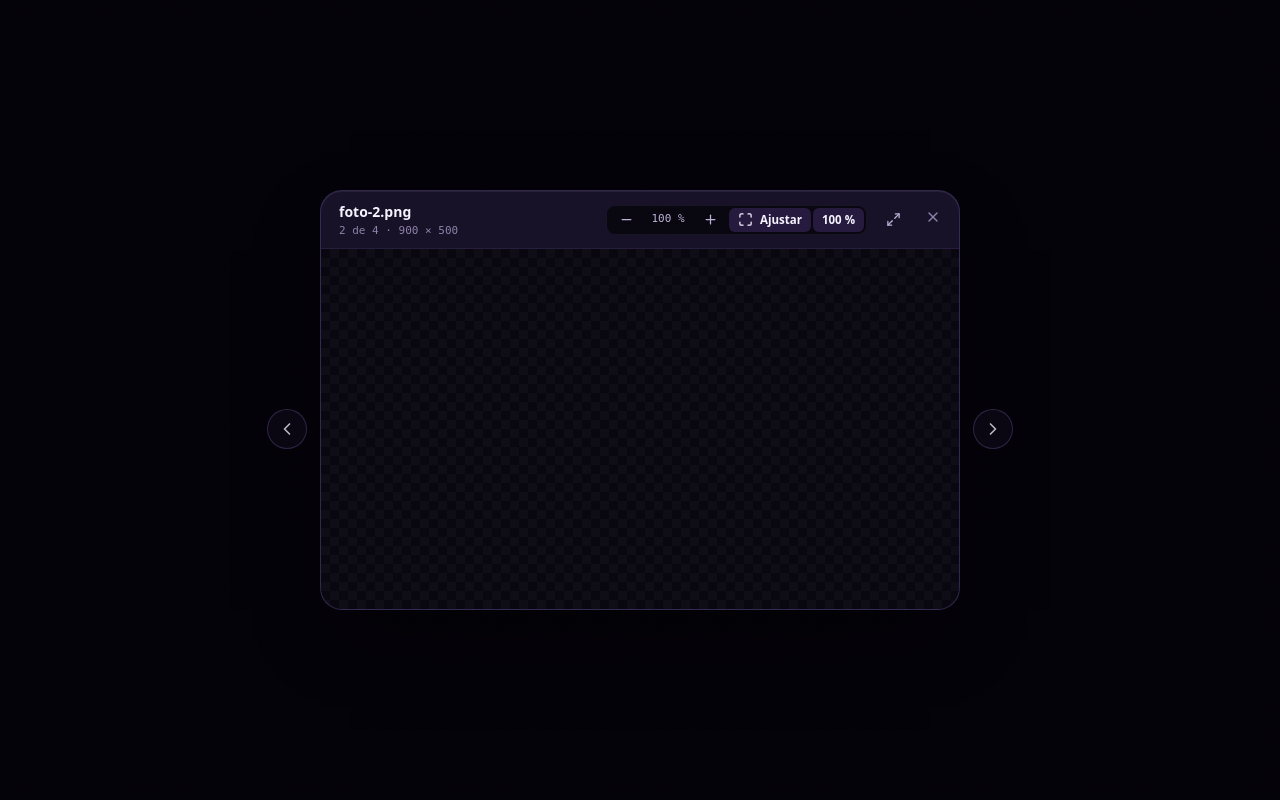
Test: dice cuál es de cuántas y pasa con ← → y con los botones
The image size is (1280, 800).
Expected: the dialog shows "2 de 4", [339,224,458,237]
Press ArrowRight in the dialog, box [320,190,960,610]
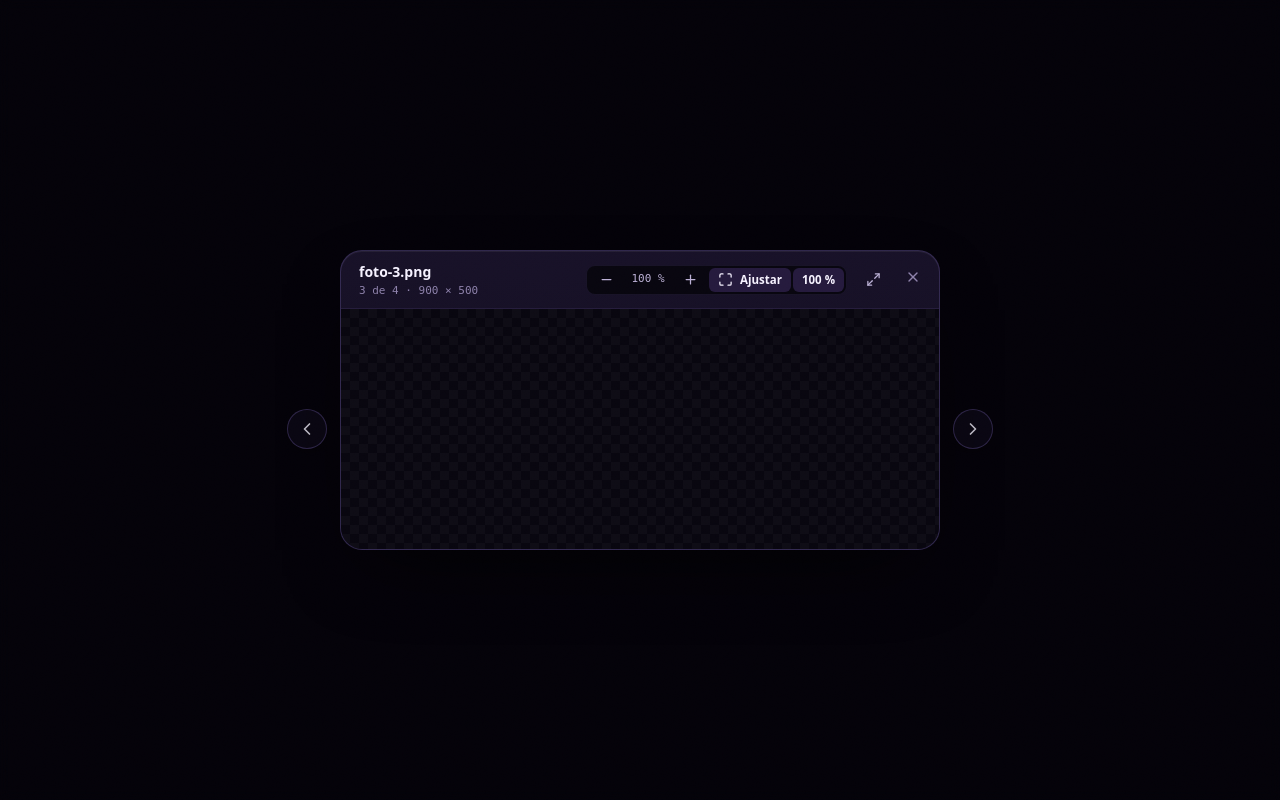
Result: the dialog has attribute aria-label="Vista previa de foto-3.png" at [340,250,940,550]
Click the button named "Imagen anterior": click(307, 429) [287,409,327,449]
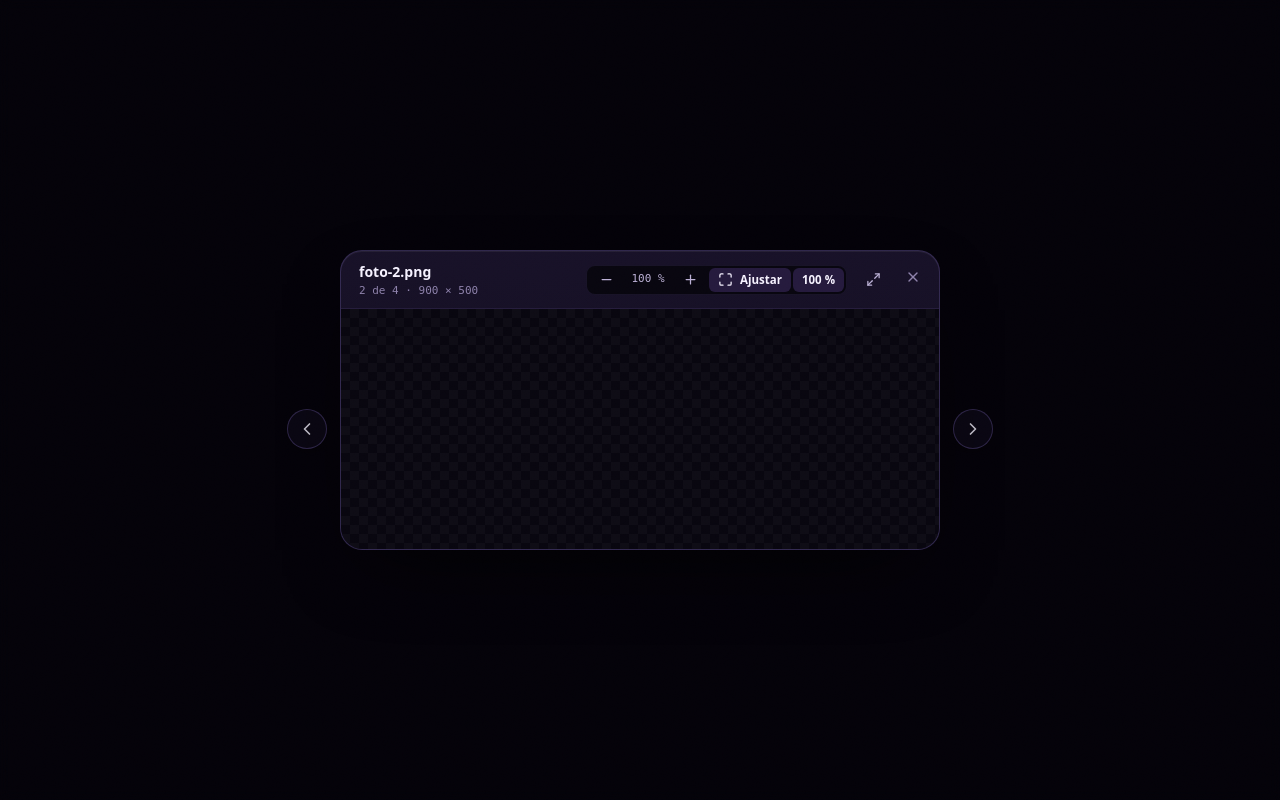
Click the button named "Imagen anterior": click(307, 429) [287,409,327,449]
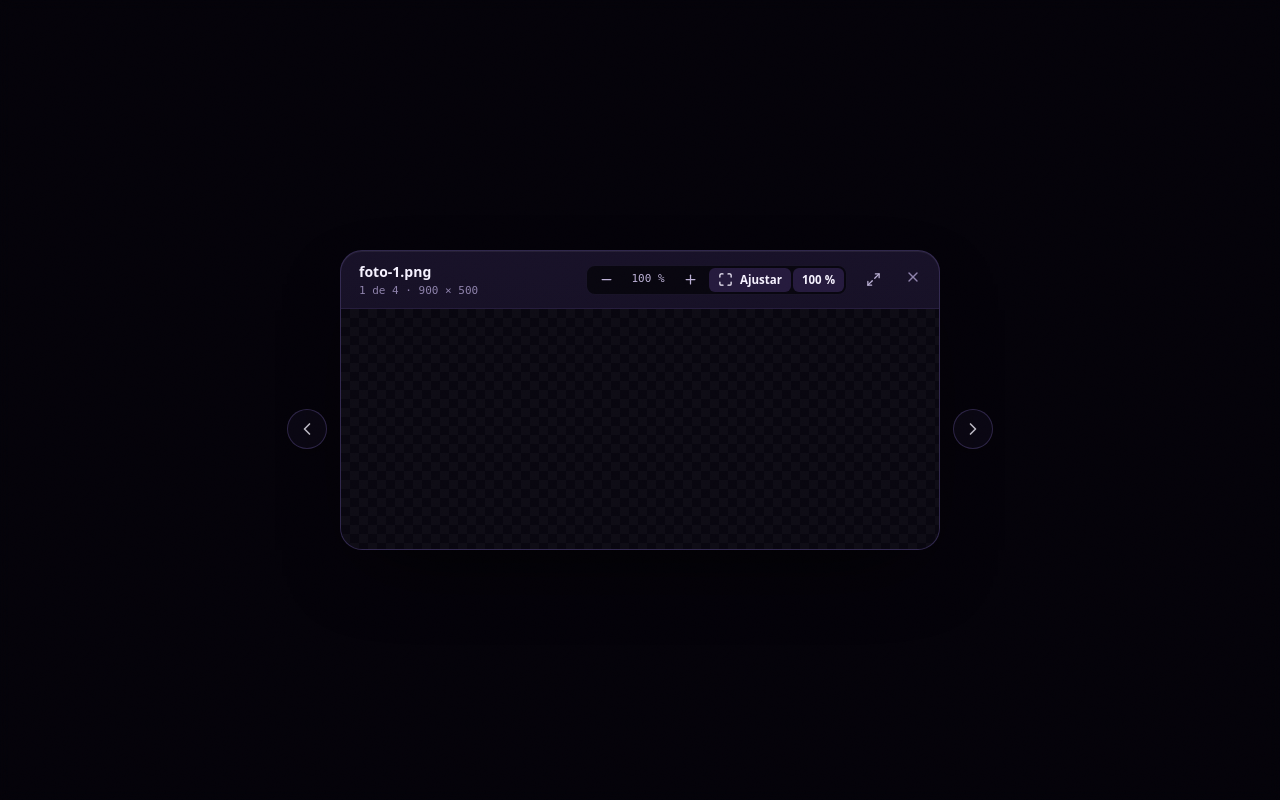
Result: the dialog shows "1 de 4" at [359,284,478,297]
Press ArrowLeft in the dialog, box [340,250,940,550]
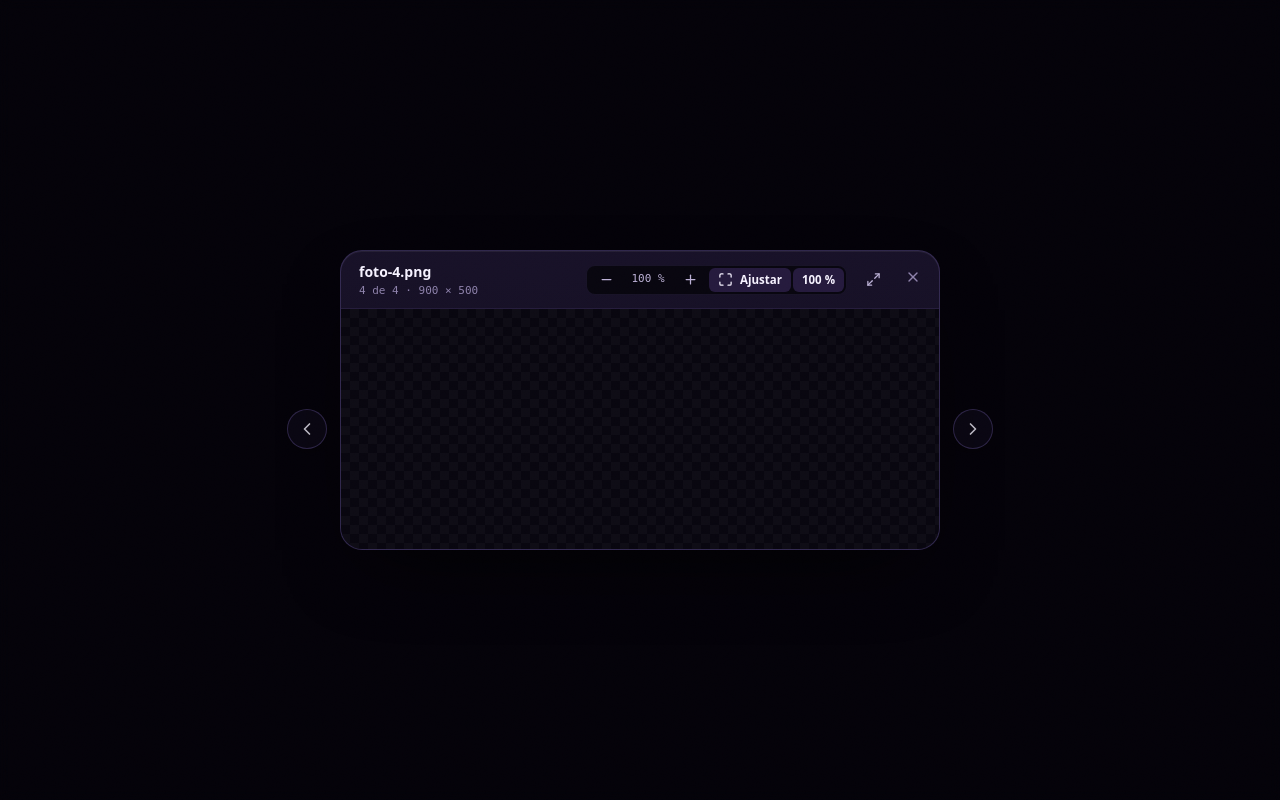
Result: the dialog shows "4 de 4" at [359,284,478,297]
